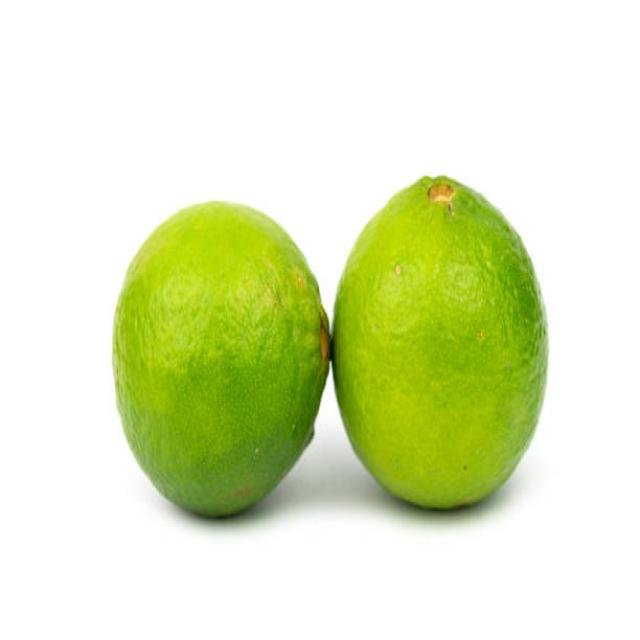Unripe: (332, 174, 550, 511), (112, 199, 331, 517)
